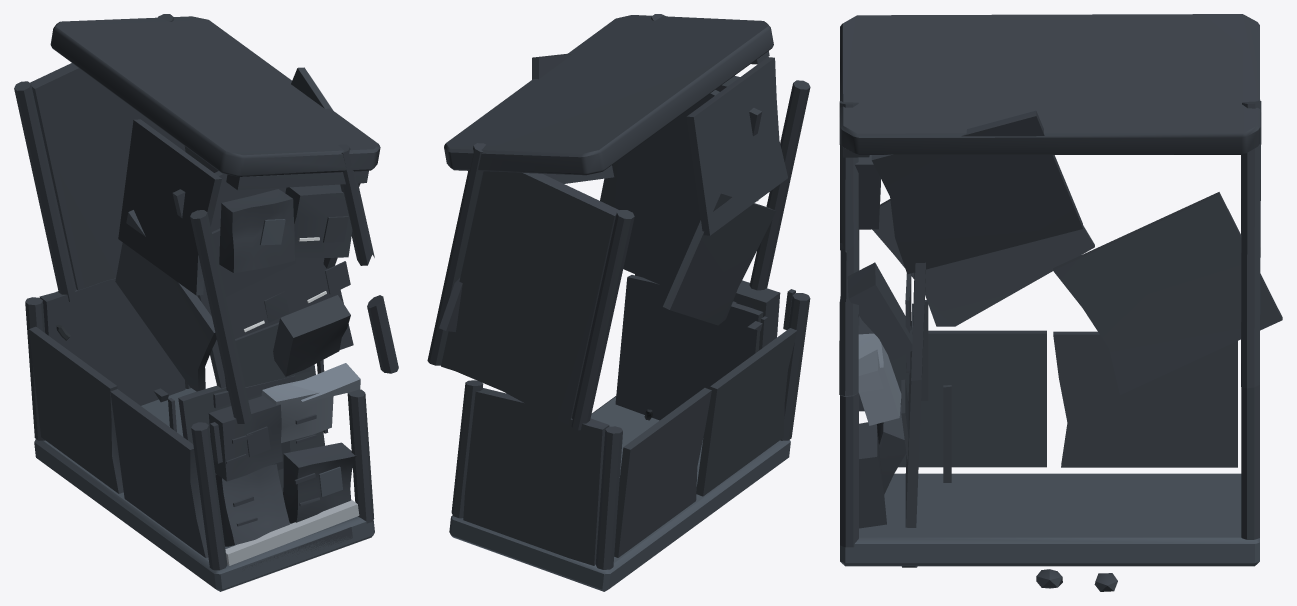
File: hlx_deb_server_rack_b.glb
The picture shows the model from 3 angles, left to right: view 1: azimuth 30°, elevation 25°; view 2: azimuth 150°, elevation 25°; view 3: azimuth 270°, elevation 25°; orthographic projection. The views are drawn at different scales.
Parts seen in each view (by area): view 1: husk, frag_06, frag_05, frag_04, frag_03, frag_02, frag_01; view 2: husk, frag_05, frag_06, frag_04; view 3: husk, frag_06, frag_04, frag_05, frag_01, frag_02.
Boxes of the visible parts, x1,y1,x2,y2 form: husk: [25, 278, 374, 591]; frag_06: [50, 16, 380, 295]; frag_05: [14, 14, 398, 423]; frag_04: [184, 146, 360, 402]; frag_03: [219, 189, 294, 272]; frag_02: [215, 464, 289, 546]; frag_01: [283, 442, 356, 523]; husk: [449, 274, 810, 591]; frag_05: [427, 14, 810, 430]; frag_06: [444, 15, 787, 235]; frag_04: [439, 276, 641, 331]; husk: [840, 299, 1259, 591]; frag_06: [839, 14, 1260, 274]; frag_04: [847, 192, 1282, 394]; frag_05: [839, 100, 1261, 396]; frag_01: [859, 422, 886, 528]; frag_02: [877, 405, 906, 494].
Size of the model in its own units: 0.5129 by 1.04 by 0.8441.
